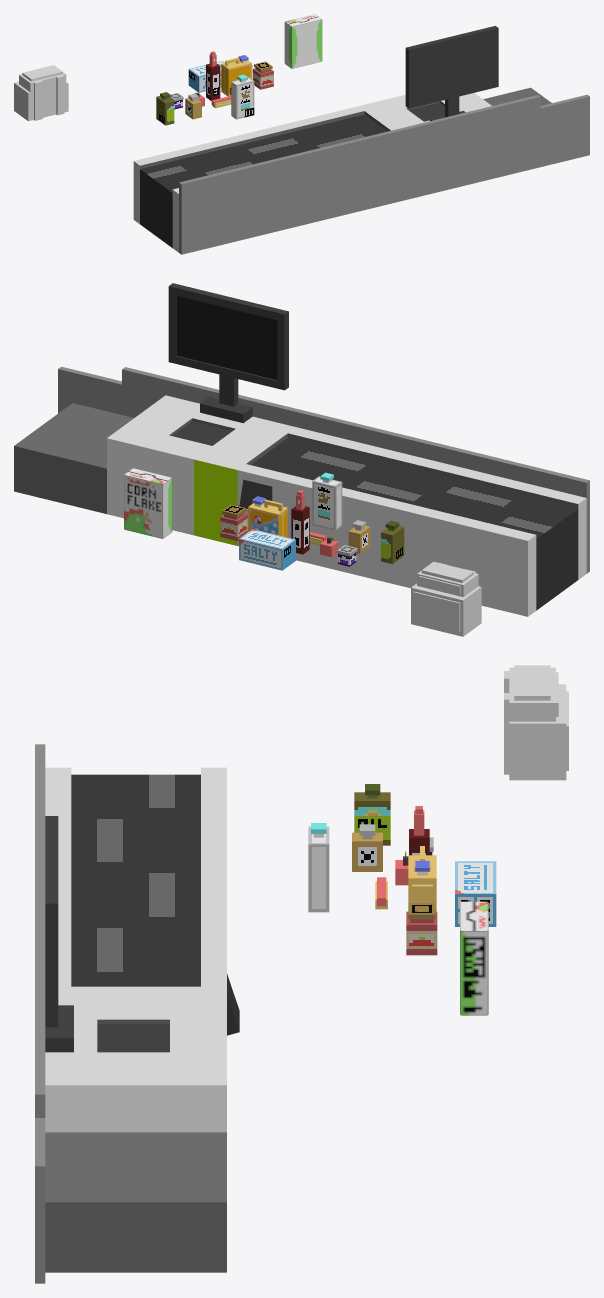
File: register_and_objects.fbx
The picture shows the model from 3 angles, top to bottom: view 1: azimuth 30°, elevation 25°; view 2: azimuth 150°, elevation 25°; view 3: azimuth 270°, elevation 25°; orthographic projection. The views are drawn at different scales.
Visible parts, largest first — view 1: cube_16, cube_15, cube_21, cube_18, cube_13, cereal_box, cube_10, cube_47, cube_26, cube_48, cube_44, cube_19 (+14 smaller); view 2: cube_13, cube_15, cube_16, cube_19, cube_20, cube_10, cube_14, cube_8, cereal_box, cube_11, cube_18, saltines (+21 smaller); view 3: cube_15, cube_19, cube_8, cube_10, cube_13, cube_16, cube_47, cube_14, cereal_box, cube_9, saltines, cube_11 (+11 smaller).
Part boxes in pixels (left/top/right/bottom): cube_16: left=179, top=95, right=540, bottom=254; cube_15: left=140, top=114, right=387, bottom=247; cube_21: left=414, top=35, right=492, bottom=101; cube_18: left=540, top=94, right=589, bottom=166; cube_13: left=133, top=106, right=364, bottom=223; cereal_box: left=284, top=14, right=322, bottom=68; cube_10: left=358, top=98, right=424, bottom=131; cube_47: left=14, top=81, right=68, bottom=121; cube_26: left=231, top=77, right=254, bottom=119; cube_48: left=19, top=72, right=66, bottom=107; cube_44: left=221, top=60, right=251, bottom=96; cube_19: left=483, top=87, right=551, bottom=105; cube_13: left=237, top=464, right=536, bottom=616; cube_15: left=251, top=438, right=578, bottom=610; cube_16: left=122, top=367, right=589, bottom=573; cube_19: left=14, top=403, right=133, bottom=513; cube_20: left=176, top=296, right=277, bottom=380; cube_10: left=194, top=416, right=295, bottom=545; cube_14: left=288, top=427, right=586, bottom=579; cube_8: left=107, top=395, right=199, bottom=518; cereal_box: left=124, top=468, right=172, bottom=538; cube_11: left=150, top=435, right=211, bottom=535; cube_18: left=58, top=366, right=121, bottom=414; saltines: left=239, top=529, right=295, bottom=570; cube_15: left=71, top=774, right=200, bottom=986; cube_19: left=45, top=1132, right=226, bottom=1272; cube_8: left=45, top=1052, right=226, bottom=1132; cube_10: left=58, top=986, right=226, bottom=1024; cube_13: left=201, top=767, right=226, bottom=986; cube_16: left=35, top=744, right=45, bottom=1117; cube_47: left=509, top=684, right=566, bottom=780; cube_14: left=45, top=767, right=71, bottom=986; cereal_box: left=460, top=901, right=488, bottom=1015; cube_9: left=97, top=1024, right=169, bottom=1052; saltines: left=455, top=861, right=496, bottom=926; cube_11: left=170, top=1019, right=226, bottom=1052.
Bounding box in the file's own units: 247 × 78.12 × 129.
Materials: 18 (18 with a texture image).
